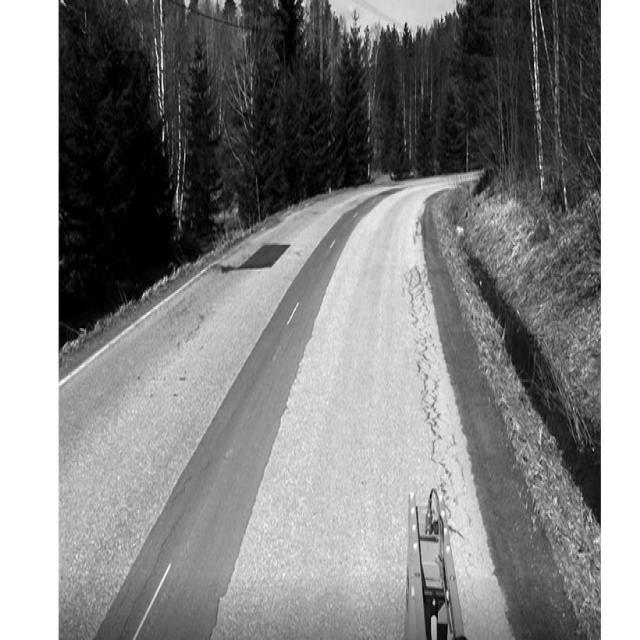cleat: (49, 64, 640, 640)
